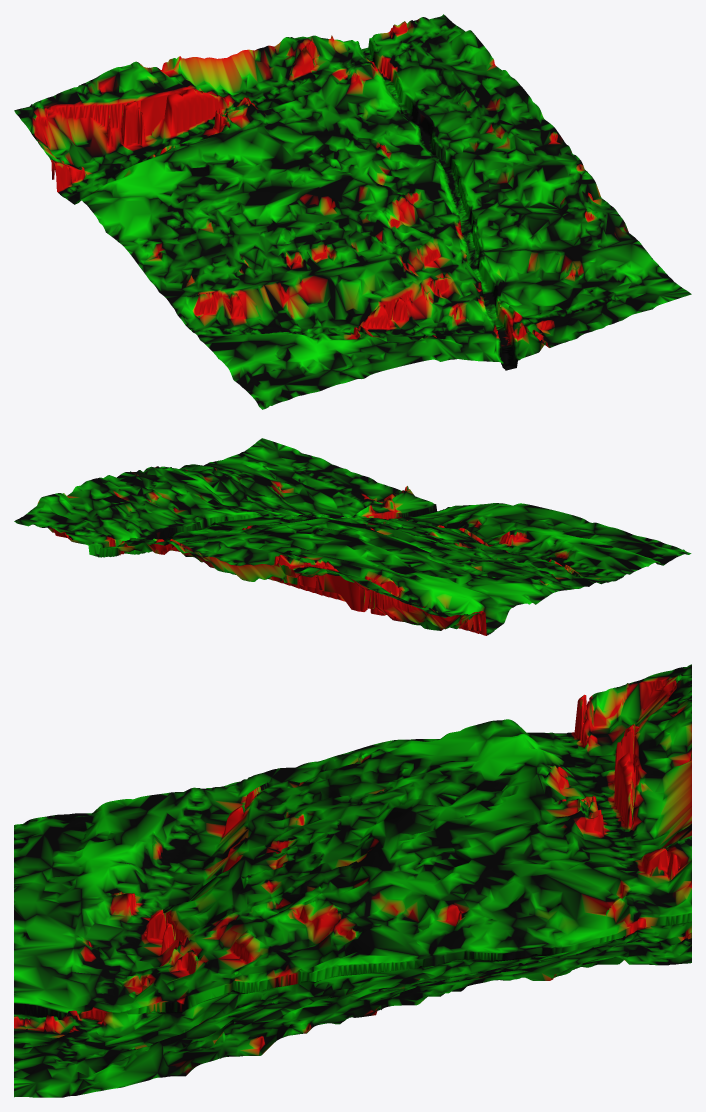
3 renders of one model, top to bottom at view 1: azimuth 30°, elevation 25°; view 2: azimuth 150°, elevation 25°; view 3: azimuth 270°, elevation 25°, orthographic. The views are drawn at different scales.
Parts seen in each view (by area): view 1: N_2_2; view 2: N_2_2; view 3: N_2_2.
Part boxes in pixels (x1,y1,x2,y2): N_2_2: (14,14,691,409); N_2_2: (14,438,691,635); N_2_2: (14,664,691,1097).
Bounding box in the file's own units: 256 × 89.47 × 256.
